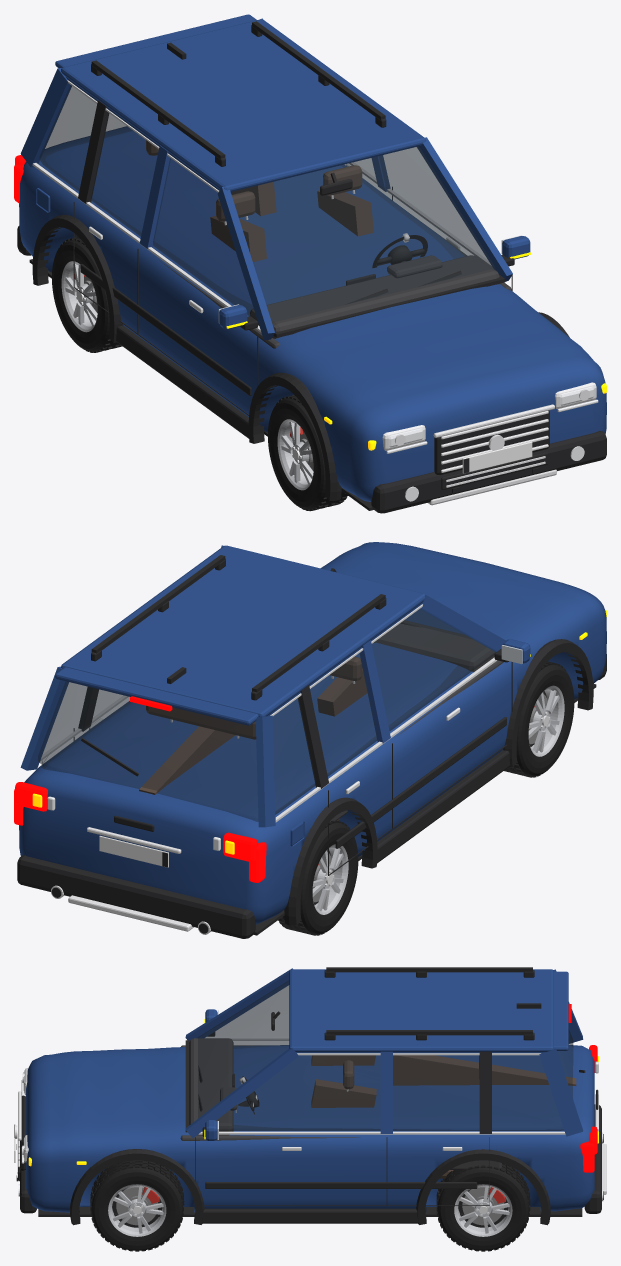
Rendered from SUV.fbx.
3 renders of one model, top to bottom at view 1: azimuth 30°, elevation 25°; view 2: azimuth 150°, elevation 25°; view 3: azimuth 270°, elevation 25°, orthographic. The views are drawn at different scales.
Visible parts, largest first — view 1: LowerBody, CabinFrame, Glass, Details, Interior, Wheel_FR, Wheel_RR, SteeringWheel; view 2: LowerBody, CabinFrame, Glass, Details, Interior, Wheel_FR, Wheel_RR; view 3: LowerBody, CabinFrame, Glass, Details, Interior, Wheel_FL, Wheel_RL.
Boxes of the visible parts, left/top/right/bottom form: LowerBody: left=19, top=126, right=606, bottom=501; CabinFrame: left=20, top=14, right=512, bottom=340; Glass: left=39, top=85, right=496, bottom=323; Details: left=14, top=155, right=606, bottom=513; Interior: left=76, top=140, right=511, bottom=348; Wheel_FR: left=268, top=395, right=347, bottom=511; Wheel_RR: left=52, top=237, right=122, bottom=352; SteeringWheel: left=372, top=233, right=427, bottom=267; LowerBody: left=19, top=542, right=606, bottom=924; CabinFrame: left=20, top=545, right=505, bottom=827; Glass: left=38, top=609, right=495, bottom=821; Details: left=14, top=609, right=606, bottom=938; Interior: left=139, top=568, right=503, bottom=821; Wheel_FR: left=504, top=661, right=574, bottom=777; Wheel_RR: left=278, top=820, right=358, bottom=935; LowerBody: left=26, top=1045, right=594, bottom=1212; CabinFrame: left=185, top=967, right=583, bottom=1137; Glass: left=197, top=980, right=573, bottom=1130; Details: left=14, top=1004, right=606, bottom=1225; Interior: left=180, top=1011, right=576, bottom=1178; Wheel_FL: left=90, top=1160, right=184, bottom=1251; Wheel_RL: left=436, top=1163, right=530, bottom=1251.
Size of the model in its own units: 2.3 by 1.82 by 4.8.
